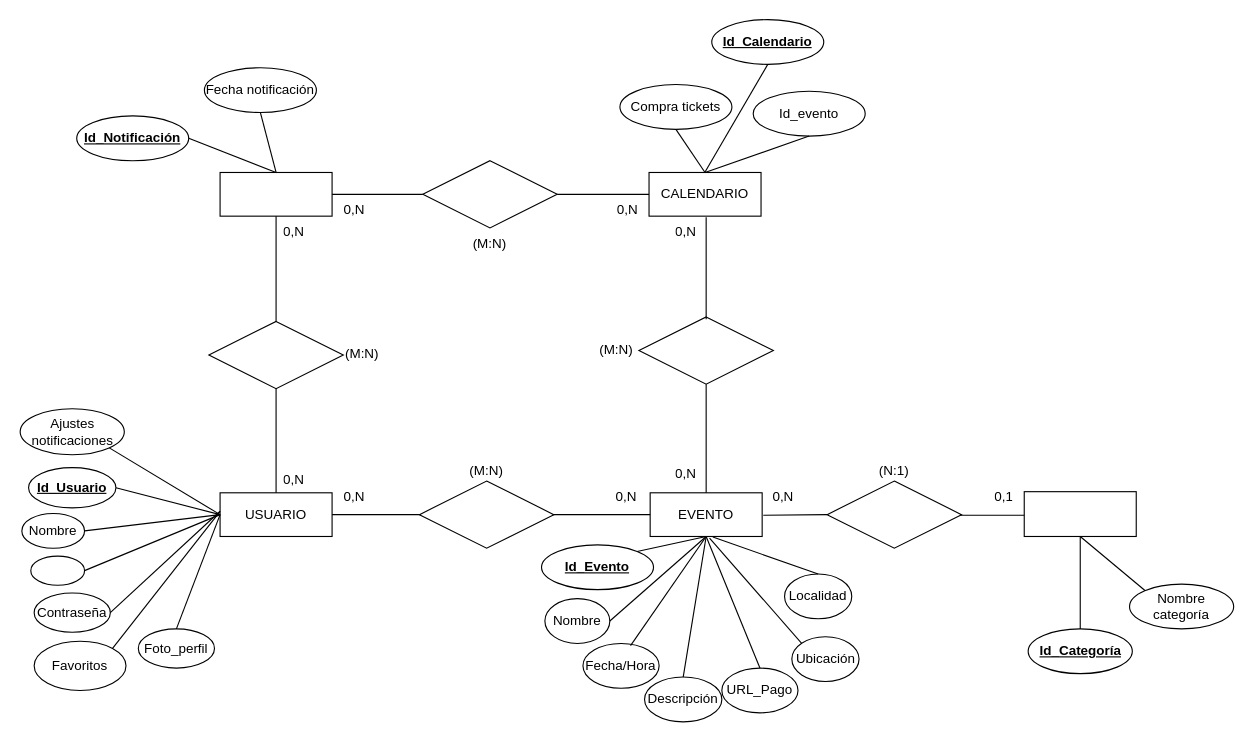
This 1253x741 diagram has some shape labels left out. Here are the shapes that lost their labels. From the top down, the centre of each, then its label:
At point 275,193: "NOTIFICACION".
At point 489,194: "envía".
At point 275,354: "es recibida".
At point 705,350: "registro".
At point 486,514: "se apunta a".
At point 894,514: "pertenece".
At point 1079,513: "CATEGORÍA".
At point 57,570: "Email".
